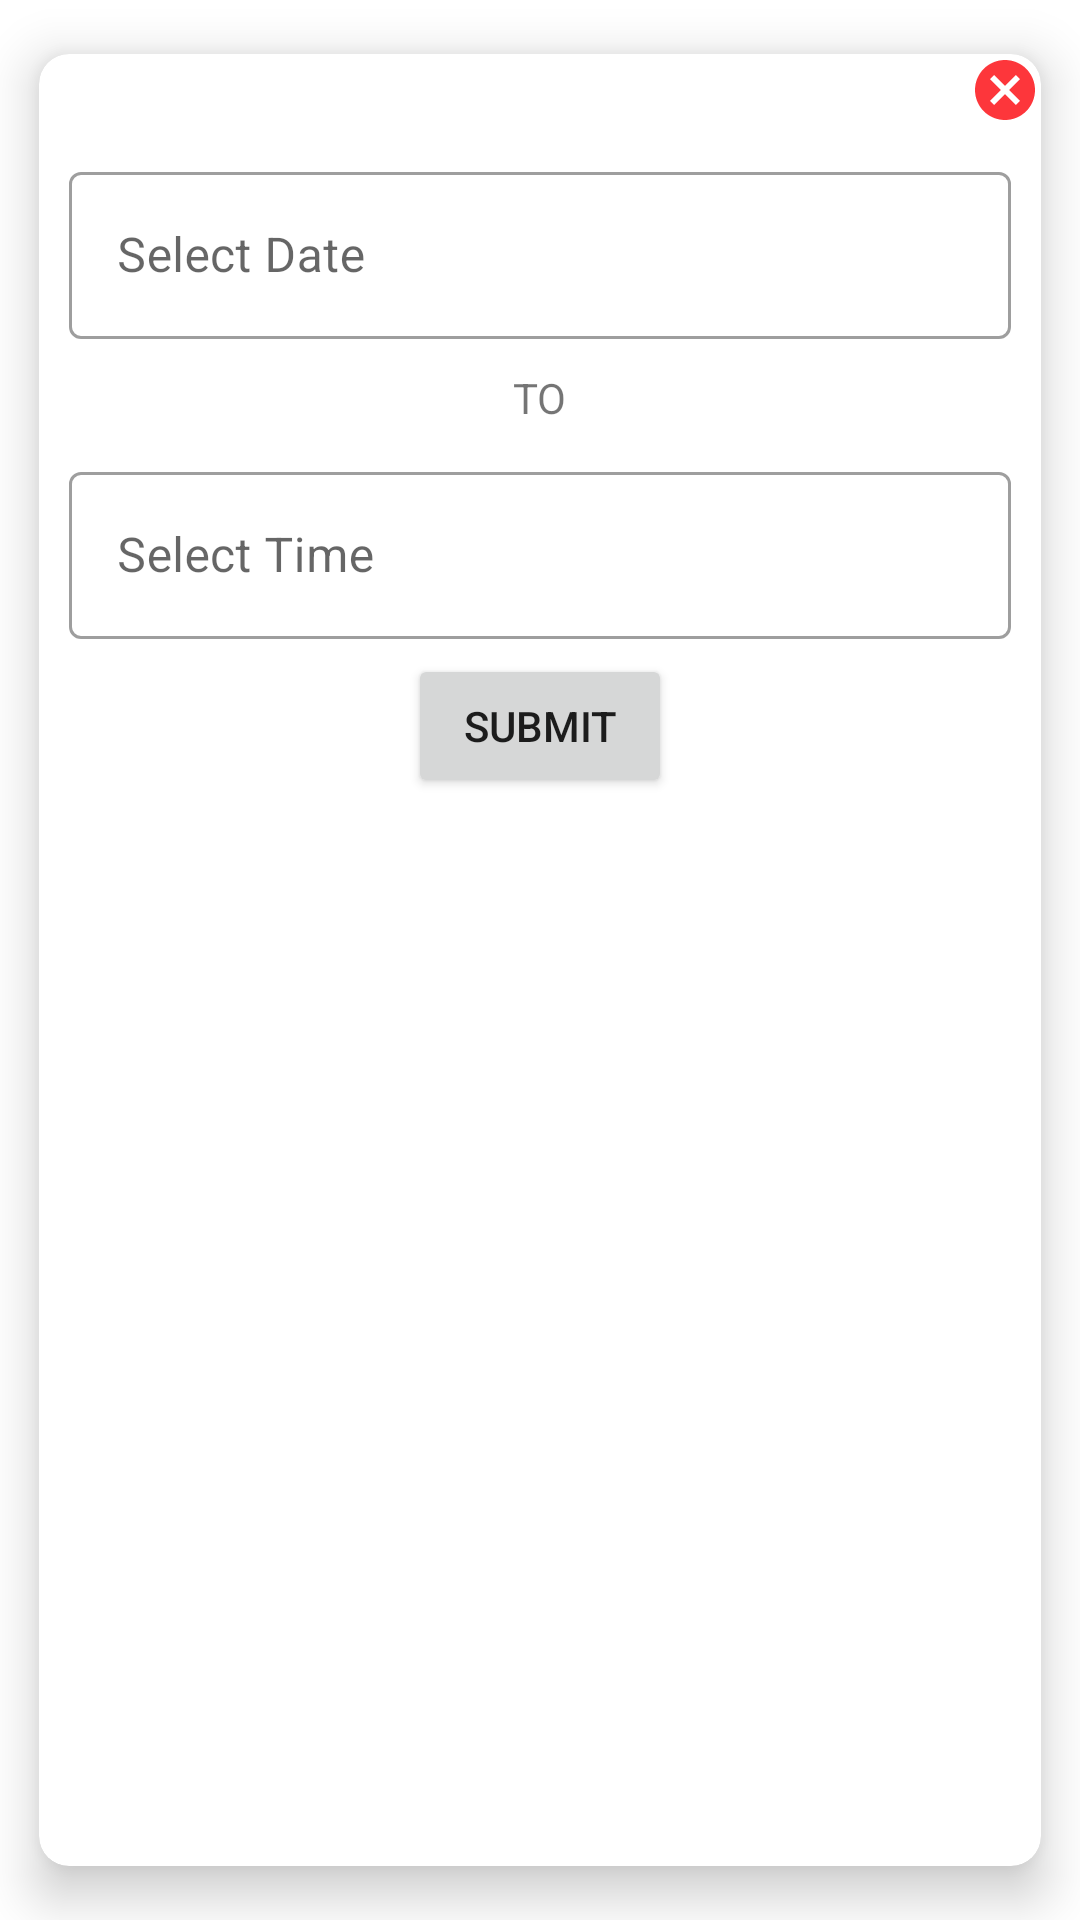

Where to tap for icons on this 1080px x 1920px app screen, as (x=x, y=y):
cancel: (x=1005, y=90)
